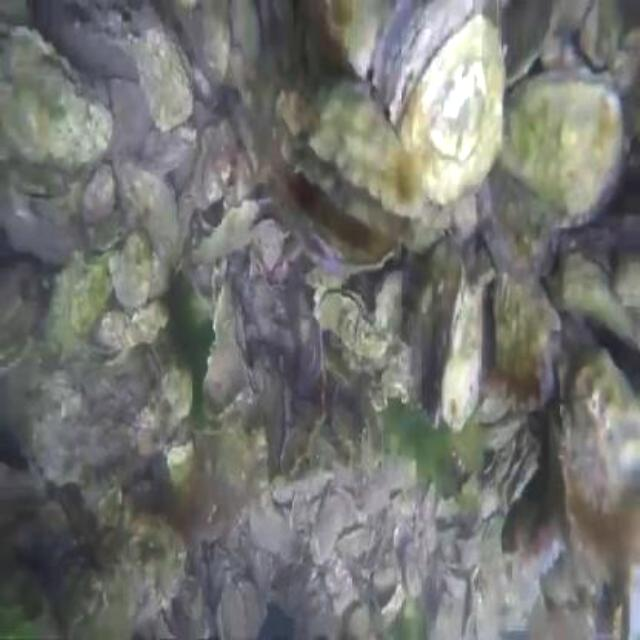Oyster-Closed: (0, 473, 187, 638), (501, 65, 625, 223), (558, 348, 638, 591), (0, 23, 111, 166), (493, 274, 549, 416), (441, 283, 487, 431), (132, 24, 192, 132), (0, 253, 46, 378), (205, 288, 251, 411), (47, 256, 106, 350), (310, 0, 382, 72), (501, 0, 550, 77)
Oyster-Open: (375, 0, 505, 203), (273, 79, 423, 244), (262, 143, 393, 277), (315, 288, 387, 359)
